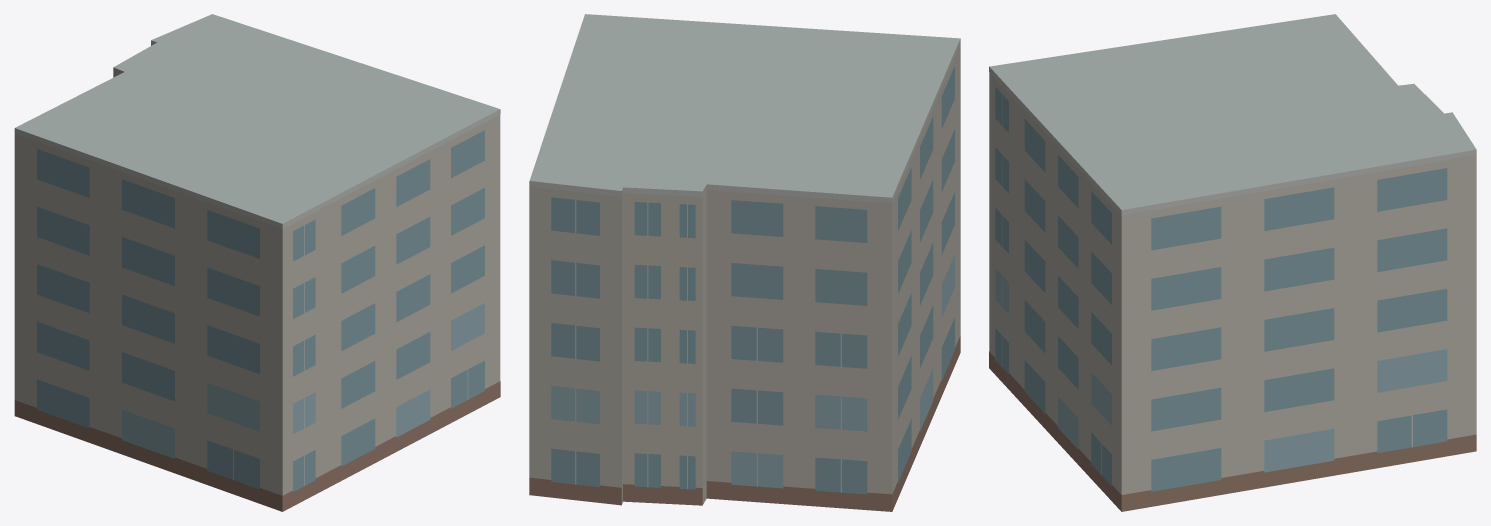
The model's file is survey-upis-32862833.glb.
The picture shows the model from 3 angles, left to right: view 1: azimuth 30°, elevation 25°; view 2: azimuth 150°, elevation 25°; view 3: azimuth 270°, elevation 25°; orthographic projection. The views are drawn at different scales.
Visible parts, largest first — view 1: survey-upis-32862833.tmp; view 2: survey-upis-32862833.tmp; view 3: survey-upis-32862833.tmp.
Part boxes in pixels (bbox=[...]): survey-upis-32862833.tmp: bbox=[14, 14, 500, 511]; survey-upis-32862833.tmp: bbox=[529, 14, 960, 511]; survey-upis-32862833.tmp: bbox=[989, 14, 1476, 511].
Size of the model in its own units: 18.83 by 13.5 by 19.78.
